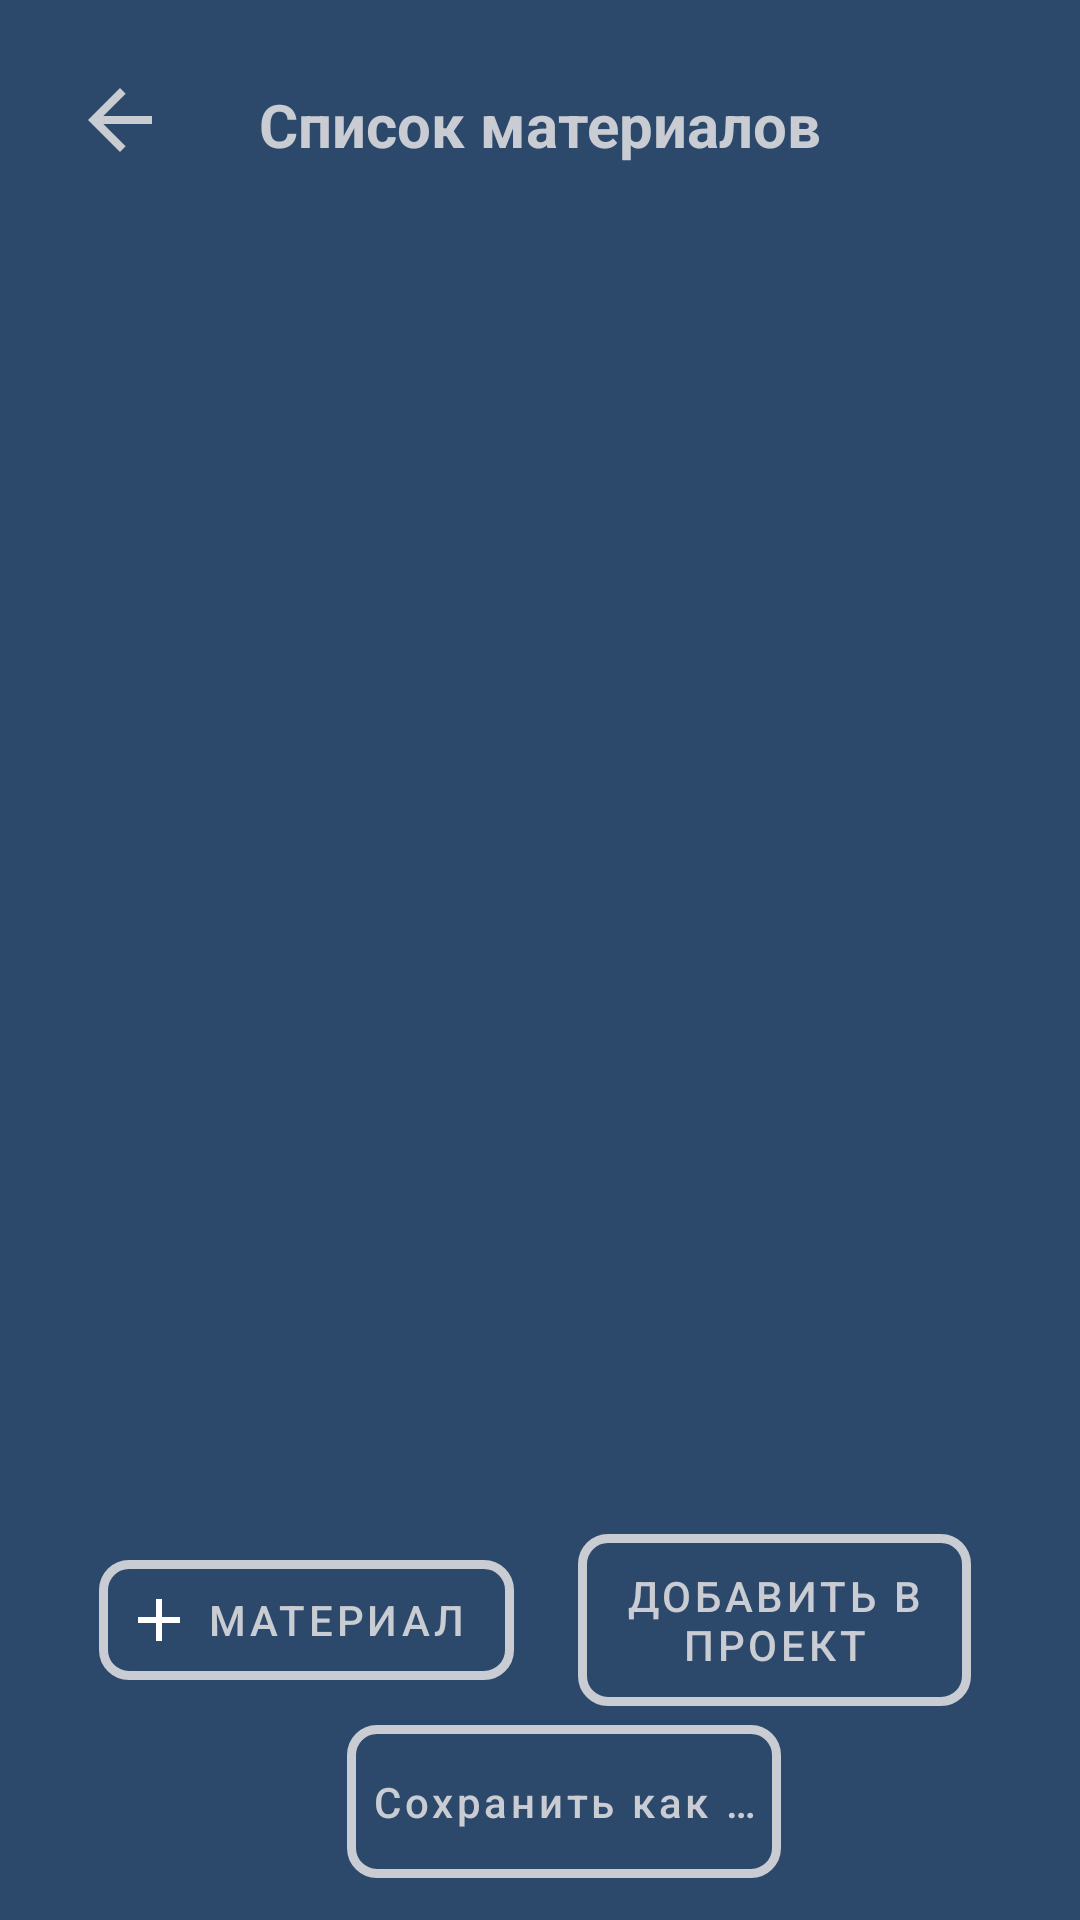

Point at icon controls on the screen. Image size 1080w x 1920h, points as (x=x, y=y).
arrow back: (x=120, y=120)
